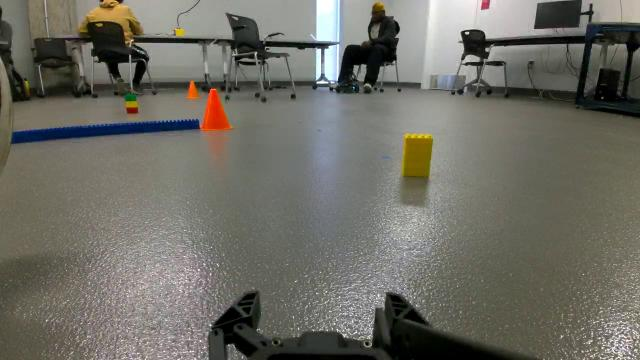lego: (399, 129, 438, 182), (120, 89, 144, 118)
